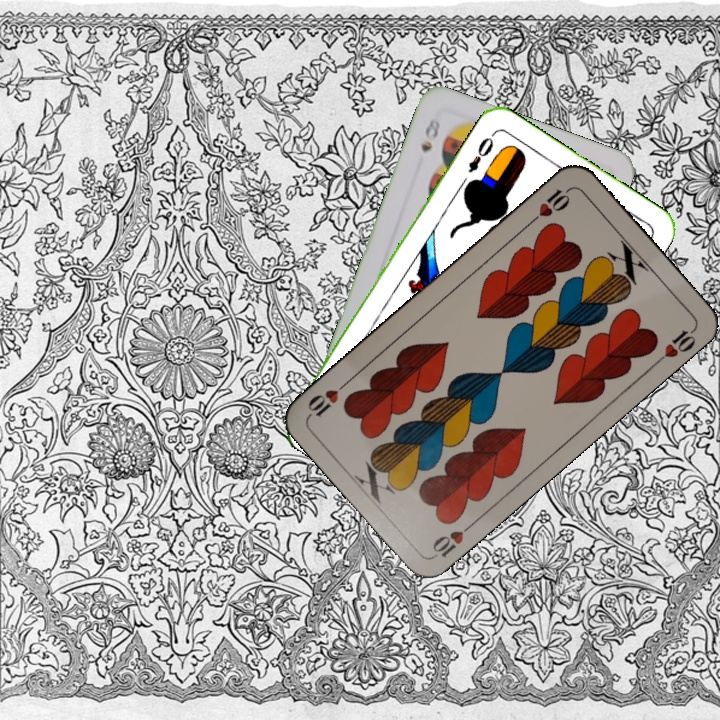EO: (464, 129, 498, 175)
H10: (428, 517, 478, 560), (525, 184, 573, 228)
S8: (416, 114, 443, 155)
